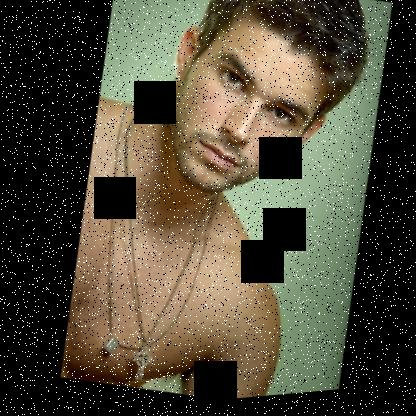Male: (142, 0, 349, 221)
